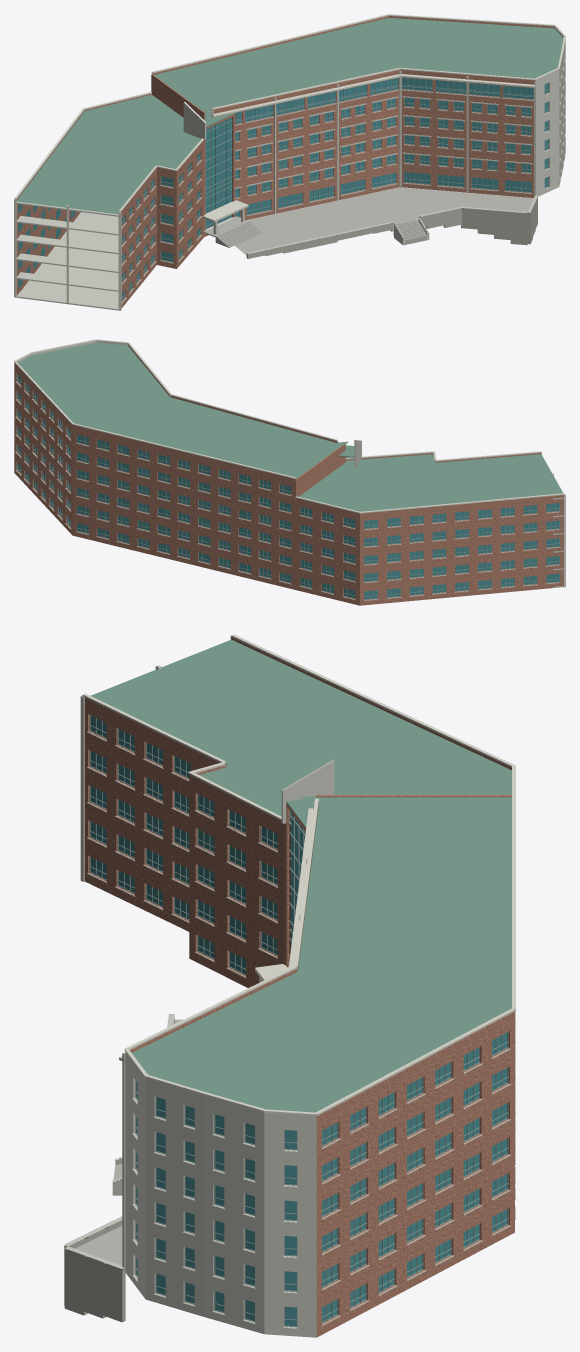
3 views of the same model, one above another, from view 1: azimuth 30°, elevation 25°; view 2: azimuth 150°, elevation 25°; view 3: azimuth 270°, elevation 25° (orthographic). The views are drawn at different scales.
Parts seen in each view (by area): view 1: higher-main-roof, lower-wing-roof, main-six-floor-front-05__wall, main-six-floor-front-04__wall, forecourt-plaza-paving, main-six-floor-front-05__window__glass, main-six-floor-front-04__window__glass, left-open-stair-landings, exact-footprint-base, forecourt-rubble-retaining-wall, lower-left-wing-08__wall, right-core-03__wall (+36 smaller); view 2: rear-estimated-11-high__wall, higher-main-roof, rear-estimated-10__wall, lower-wing-roof, rear-estimated-11-high__window__glass, rear-estimated-10__window__glass, rear-estimated-12__wall, rear-estimated-11-low__wall, rear-estimated-11-high__window__reveal, rear-estimated-11-low__window__glass, rear-estimated-11-high__window__frame, rear-estimated-11-high__window__mullion (+17 smaller); view 3: higher-main-roof, lower-wing-roof, rear-estimated-12__wall, lower-left-wing-08__wall, lower-left-wing-06__wall, right-core-01__wall, right-core-02__wall, right-core-00__wall, rear-estimated-12__window__glass, lower-left-wing-08__window__glass, right-core-03__wall, forecourt-rubble-retaining-wall (+22 smaller).
Part boxes in pixels (bbox=[...]): higher-main-roof: bbox=[154, 17, 563, 116]; lower-wing-roof: bbox=[16, 95, 201, 214]; main-six-floor-front-05__wall: bbox=[211, 69, 400, 220]; main-six-floor-front-04__wall: bbox=[400, 69, 535, 197]; forecourt-plaza-paving: bbox=[234, 187, 533, 255]; main-six-floor-front-05__window__glass: bbox=[235, 78, 397, 216]; main-six-floor-front-04__window__glass: bbox=[402, 77, 533, 192]; left-open-stair-landings: bbox=[15, 201, 119, 310]; exact-footprint-base: bbox=[21, 212, 118, 303]; forecourt-rubble-retaining-wall: bbox=[246, 197, 537, 258]; lower-left-wing-08__wall: bbox=[118, 168, 156, 308]; right-core-03__wall: bbox=[535, 70, 559, 196]; rear-estimated-11-high__wall: bbox=[72, 425, 295, 589]; higher-main-roof: bbox=[18, 342, 347, 478]; rear-estimated-10__wall: bbox=[360, 495, 563, 605]; lower-wing-roof: bbox=[299, 454, 562, 511]; rear-estimated-11-high__window__glass: bbox=[77, 434, 291, 582]; rear-estimated-10__window__glass: bbox=[364, 503, 559, 599]; rear-estimated-12__wall: bbox=[14, 363, 72, 535]; rear-estimated-11-low__wall: bbox=[295, 498, 359, 605]; rear-estimated-11-high__window__reveal: bbox=[76, 435, 291, 583]; rear-estimated-11-low__window__glass: bbox=[300, 507, 355, 598]; rear-estimated-11-high__window__frame: bbox=[77, 435, 290, 583]; rear-estimated-11-high__window__mullion: bbox=[81, 436, 287, 582]; higher-main-roof: bbox=[132, 796, 511, 1112]; lower-wing-roof: bbox=[90, 639, 511, 816]; rear-estimated-12__wall: bbox=[316, 1011, 514, 1337]; lower-left-wing-08__wall: bbox=[84, 697, 226, 931]; lower-left-wing-06__wall: bbox=[189, 774, 290, 987]; right-core-01__wall: bbox=[203, 1095, 264, 1333]; right-core-02__wall: bbox=[145, 1078, 203, 1316]; right-core-00__wall: bbox=[264, 1112, 316, 1337]; rear-estimated-12__window__glass: bbox=[322, 1032, 507, 1321]; lower-left-wing-08__window__glass: bbox=[90, 715, 190, 919]; right-core-03__wall: bbox=[125, 1052, 145, 1298]; forecourt-rubble-retaining-wall: bbox=[64, 1016, 174, 1322].
Size of the model in its own units: 113 by 30.12 by 41.73.
9 materials, 1 textured.
